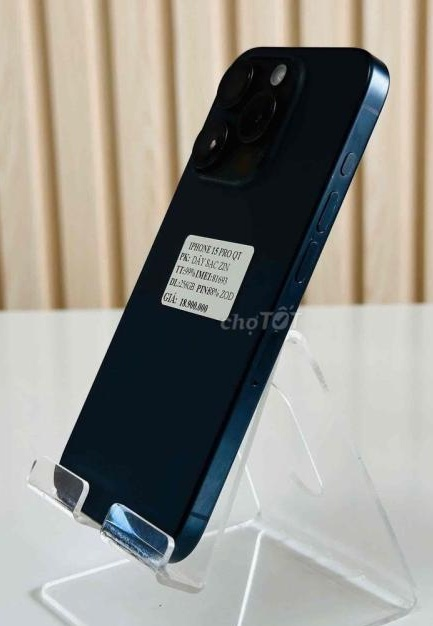scratch: (293, 159, 356, 272)
